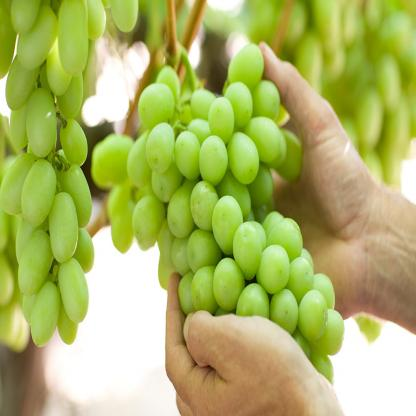--: (122, 56, 366, 416), (1, 0, 148, 383)
